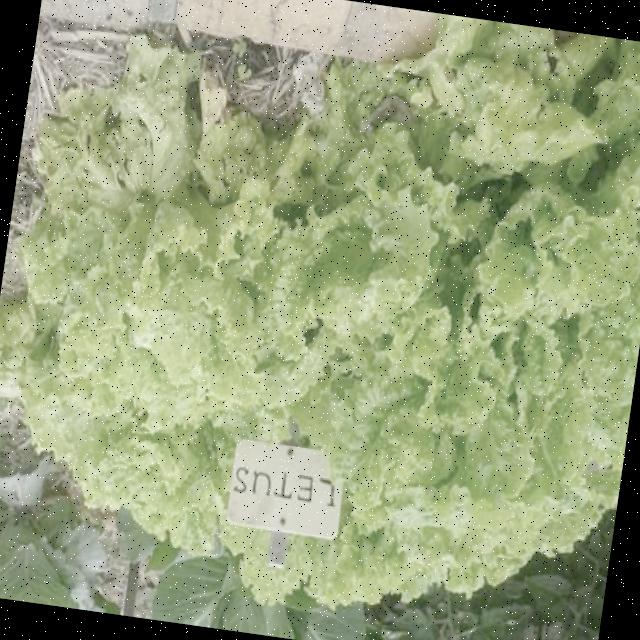healthy: (348, 42, 638, 543)
